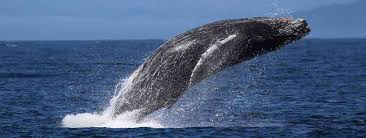humpback: (113, 18, 312, 105)
